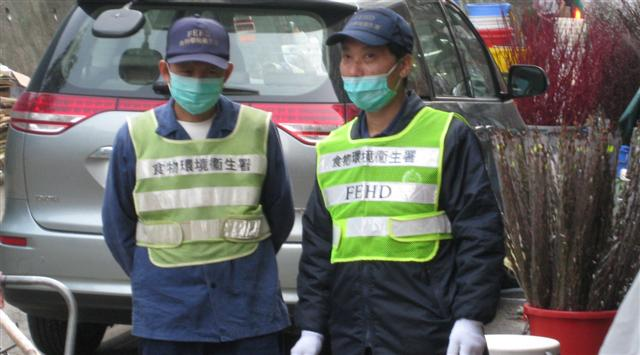with_mask: (340, 43, 394, 104), (171, 65, 221, 113)
